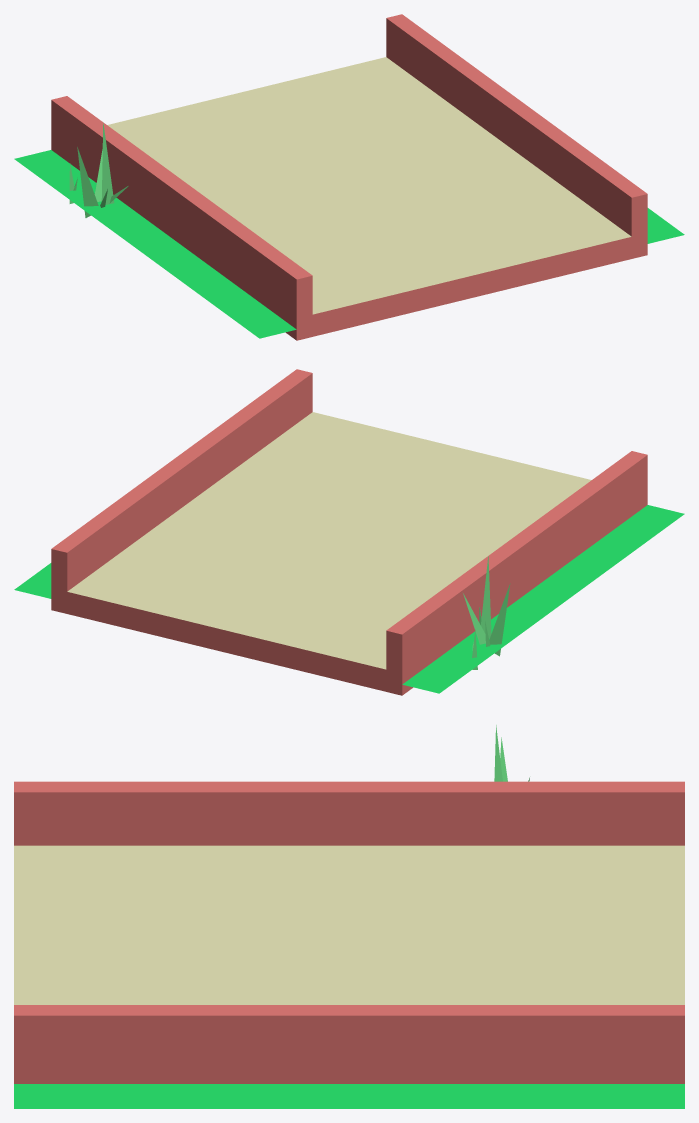
Rendered from straight_path.fbx.
3 renders of one model, top to bottom at view 1: azimuth 30°, elevation 25°; view 2: azimuth 150°, elevation 25°; view 3: azimuth 270°, elevation 25°, orthographic. The views are drawn at different scales.
Visible parts, largest first — view 1: straight_path, Plane, 0_grass, 0_grass.002; view 2: straight_path, Plane, 0_grass.002; view 3: straight_path, Plane.
Boxes of the visible parts, bbox=[...] form: straight_path: bbox=[51, 14, 647, 340]; Plane: bbox=[14, 150, 684, 338]; 0_grass: bbox=[101, 123, 114, 204]; 0_grass.002: bbox=[77, 147, 98, 217]; straight_path: bbox=[51, 369, 647, 695]; Plane: bbox=[14, 505, 684, 693]; 0_grass.002: bbox=[489, 583, 510, 656]; straight_path: bbox=[14, 781, 684, 1083]; Plane: bbox=[14, 1084, 684, 1108].
Size of the model in its own units: 202 by 43.5 by 200.
